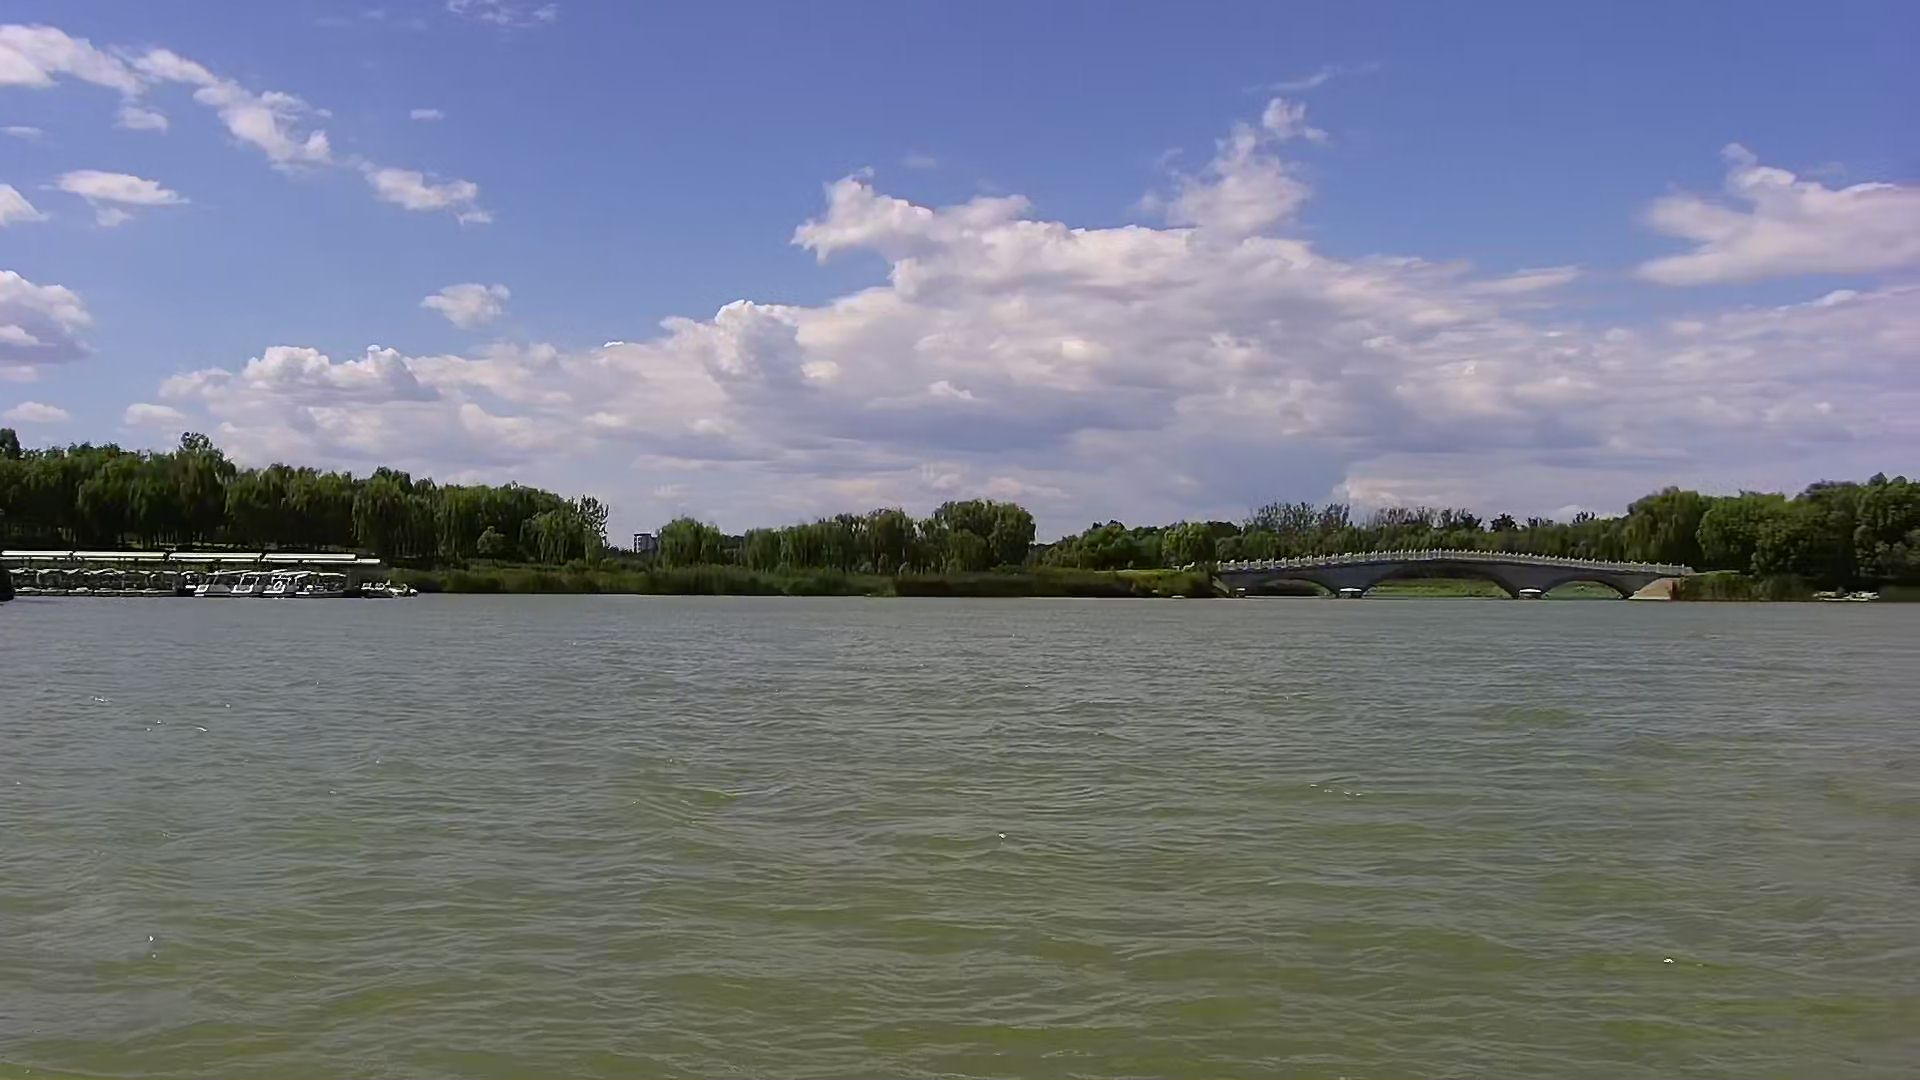bridge: (1212, 551, 1685, 599)
harbor: (1, 546, 410, 601)
